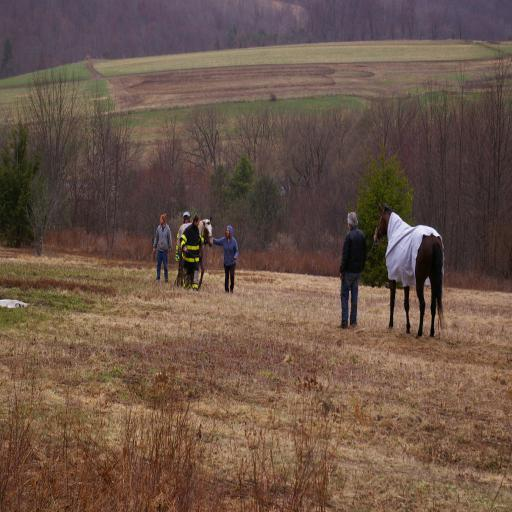horse: (370, 199, 448, 337), (175, 216, 215, 290)
